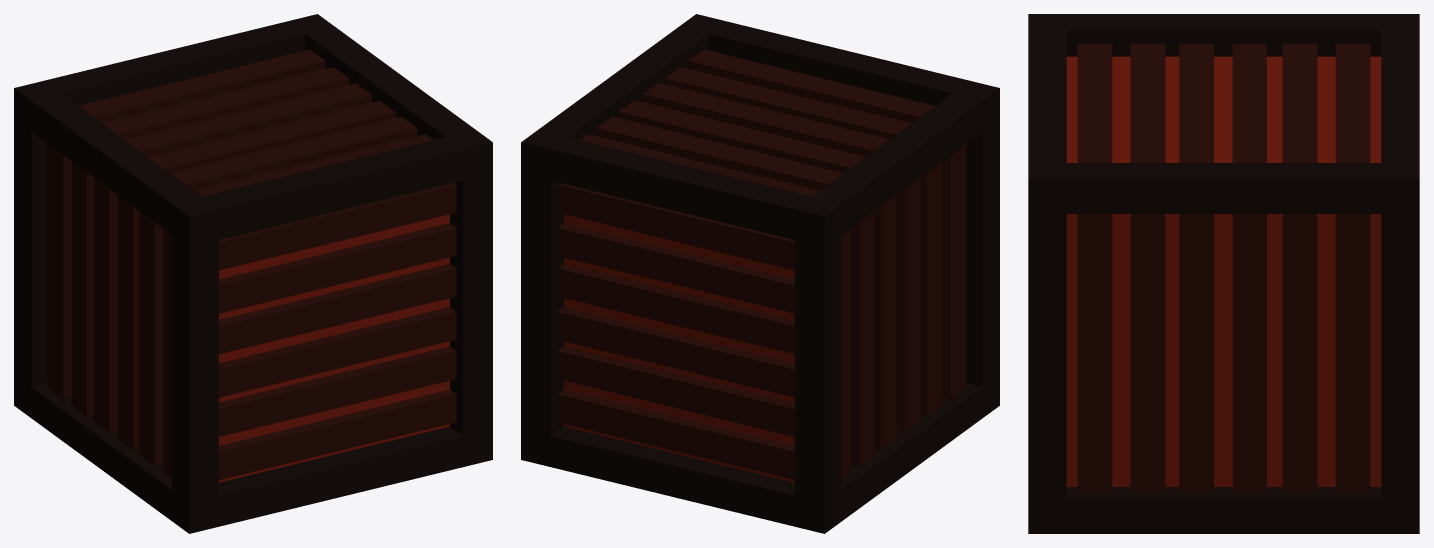
Rendered from caja_corta.fbx.
3 renders of one model, left to right at view 1: azimuth 30°, elevation 25°; view 2: azimuth 150°, elevation 25°; view 3: azimuth 270°, elevation 25°, orthographic. The views are drawn at different scales.
Visible parts, largest first — view 1: caja_corta; view 2: caja_corta; view 3: caja_corta.
Boxes of the visible parts, left/top/right/bottom form: caja_corta: left=14, top=14, right=492, bottom=533; caja_corta: left=521, top=14, right=999, bottom=533; caja_corta: left=1028, top=14, right=1419, bottom=533.
Size of the model in its own units: 100 by 100 by 100.
